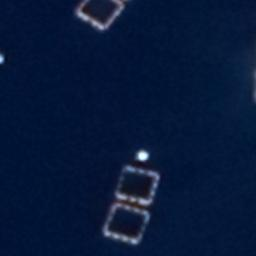square_solid: (100, 198, 152, 246), (112, 162, 162, 209), (72, 1, 129, 34)
